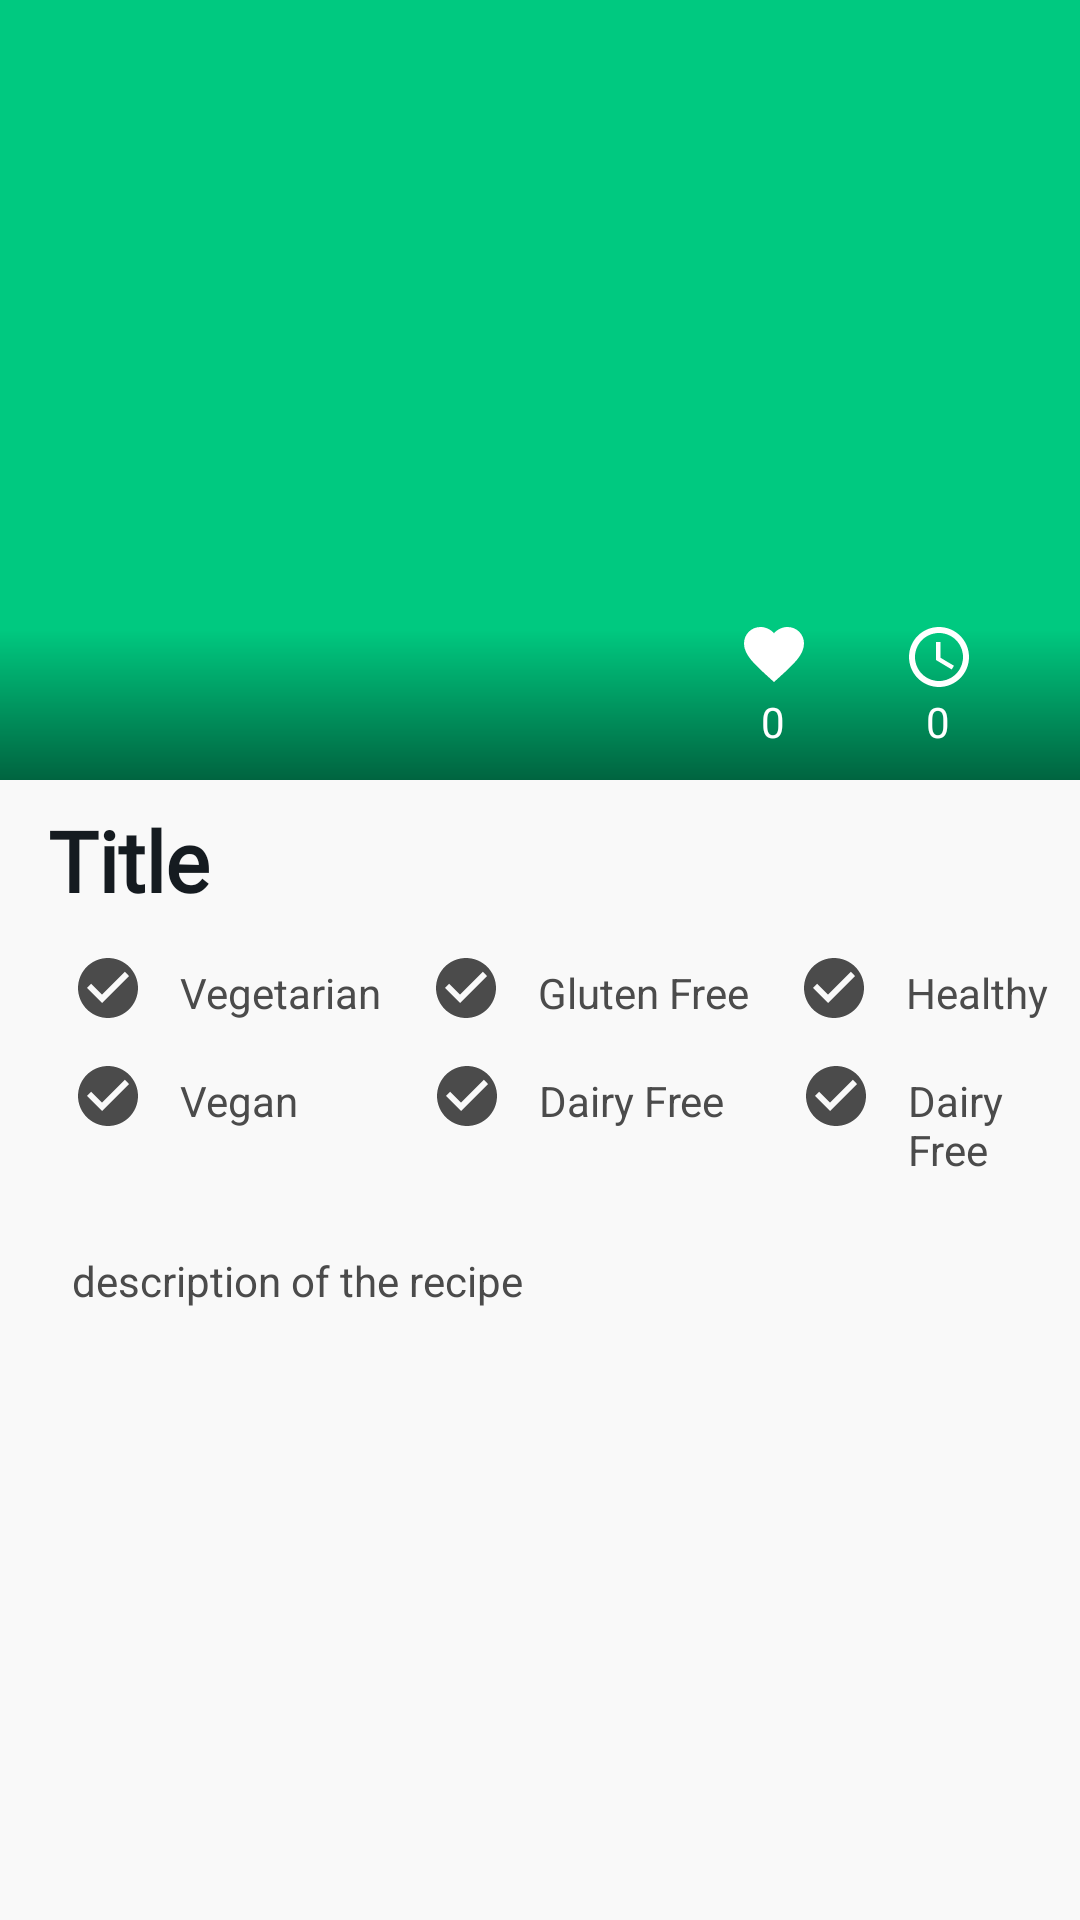

Named icons in this screenshot (1080x1920) and their centers, (x=x, y=y):
access time: (x=939, y=657)
check circle: (x=108, y=988), (x=466, y=988), (x=834, y=988), (x=108, y=1096), (x=467, y=1096), (x=836, y=1096)
heart: (x=774, y=654)
